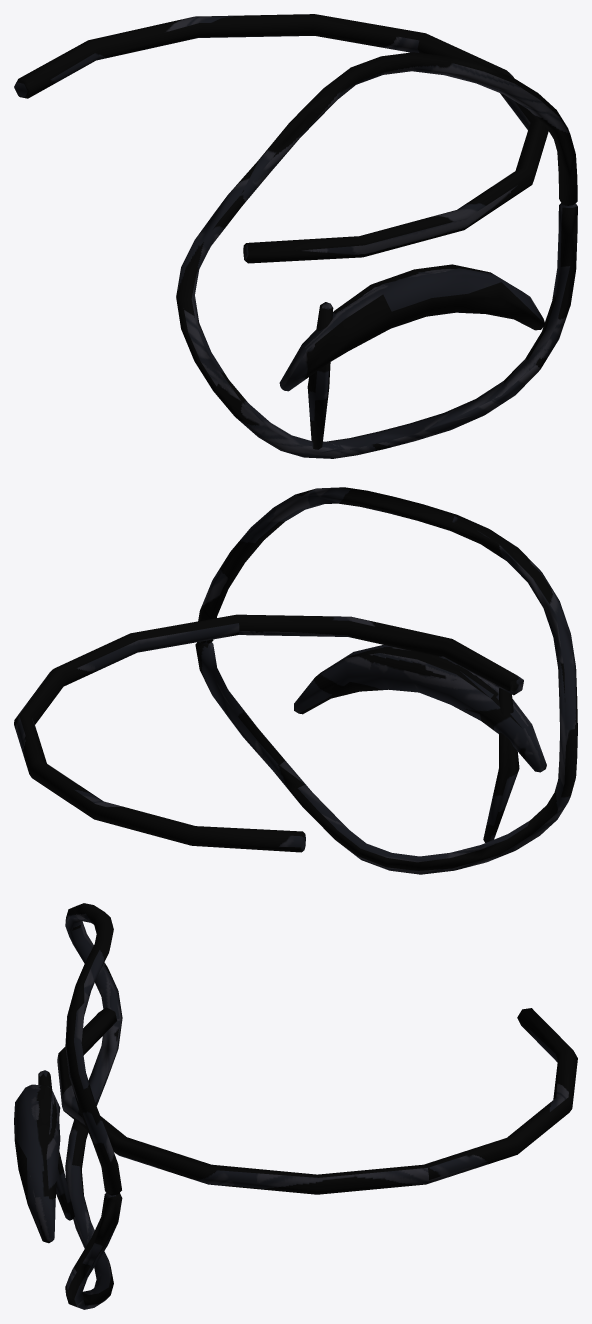
The model's file is Mascarada_MascaraTragedia_Negro.fbx.
3 views of the same model, one above another, from view 1: azimuth 30°, elevation 25°; view 2: azimuth 150°, elevation 25°; view 3: azimuth 270°, elevation 25° (orthographic). The views are drawn at different scales.
Parts seen in each view (by area): view 1: Mascarada_MascaraTragedia_Negro; view 2: Mascarada_MascaraTragedia_Negro; view 3: Mascarada_MascaraTragedia_Negro.
Boxes of the visible parts, x1,y1,x2,y2 form: Mascarada_MascaraTragedia_Negro: (14, 14, 577, 458); Mascarada_MascaraTragedia_Negro: (14, 487, 577, 874); Mascarada_MascaraTragedia_Negro: (14, 903, 577, 1309).
Bounding box in the file's own units: 1.21 × 1.02 × 1.43.
